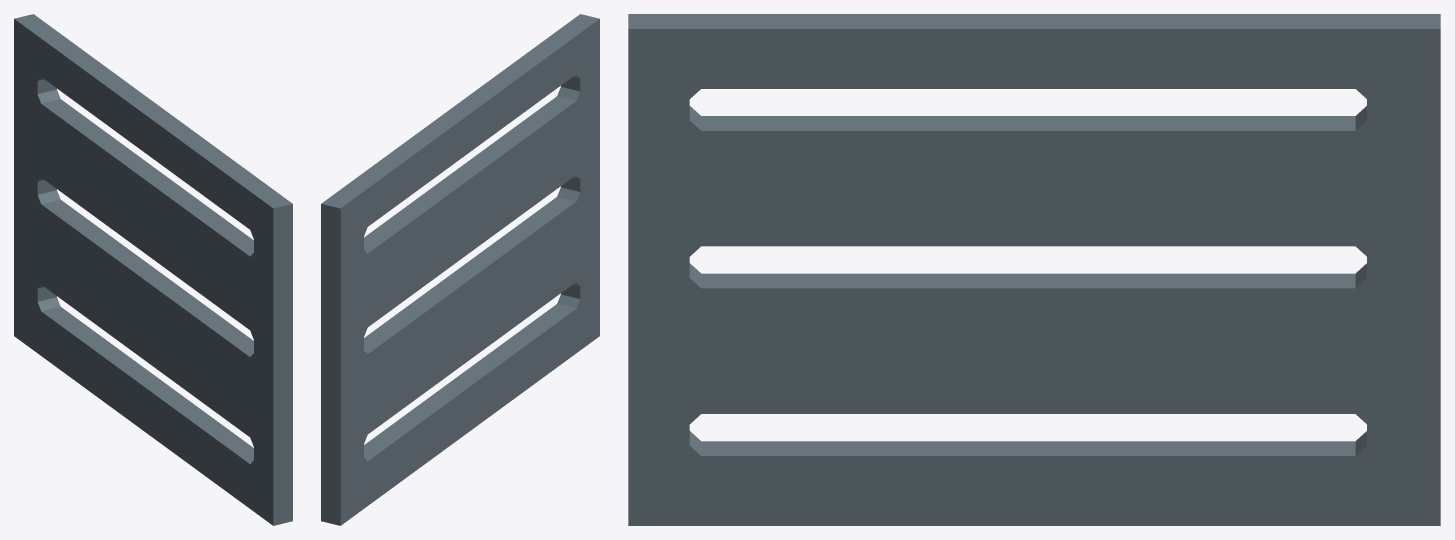
The model's file is plaka 5.fbx.
3 renders of one model, left to right at view 1: azimuth 30°, elevation 25°; view 2: azimuth 150°, elevation 25°; view 3: azimuth 270°, elevation 25°, orthographic. The views are drawn at different scales.
Parts seen in each view (by area): view 1: pCube412; view 2: pCube412; view 3: pCube412.
Boxes of the visible parts, <box> form: pCube412: <box>14,14,292,525</box>; pCube412: <box>321,14,599,525</box>; pCube412: <box>628,14,1440,525</box>.
Size of the model in its own units: 8.92 by 139 by 206.
